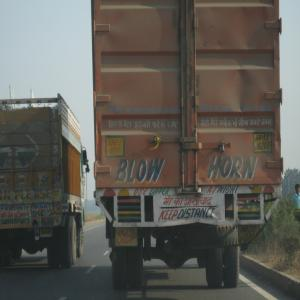Vehicle-registration-plate: (239, 226, 261, 245), (41, 228, 53, 238)
